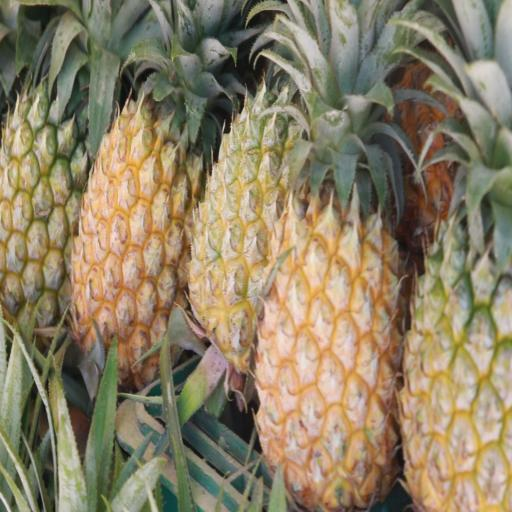------------------------------: (397, 3, 512, 512), (0, 0, 99, 340)
Pineapple - v8 v1: (255, 50, 405, 511), (71, 0, 204, 384), (188, 0, 299, 372)
